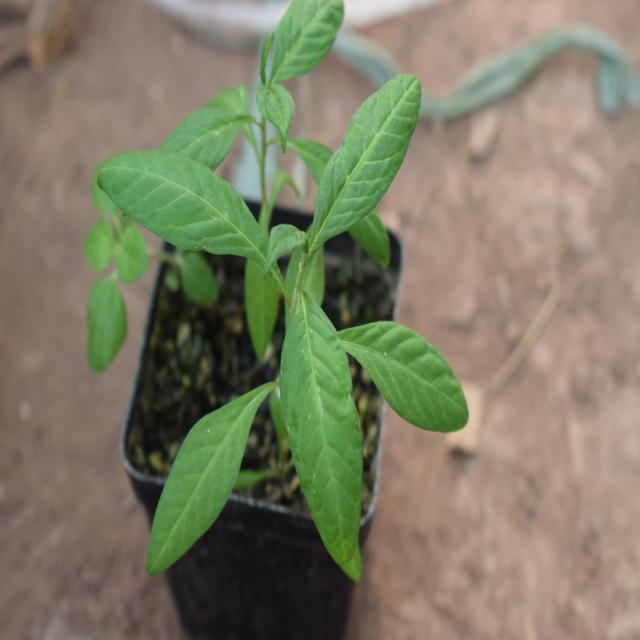white_smart_weed: (86, 72, 504, 579)
